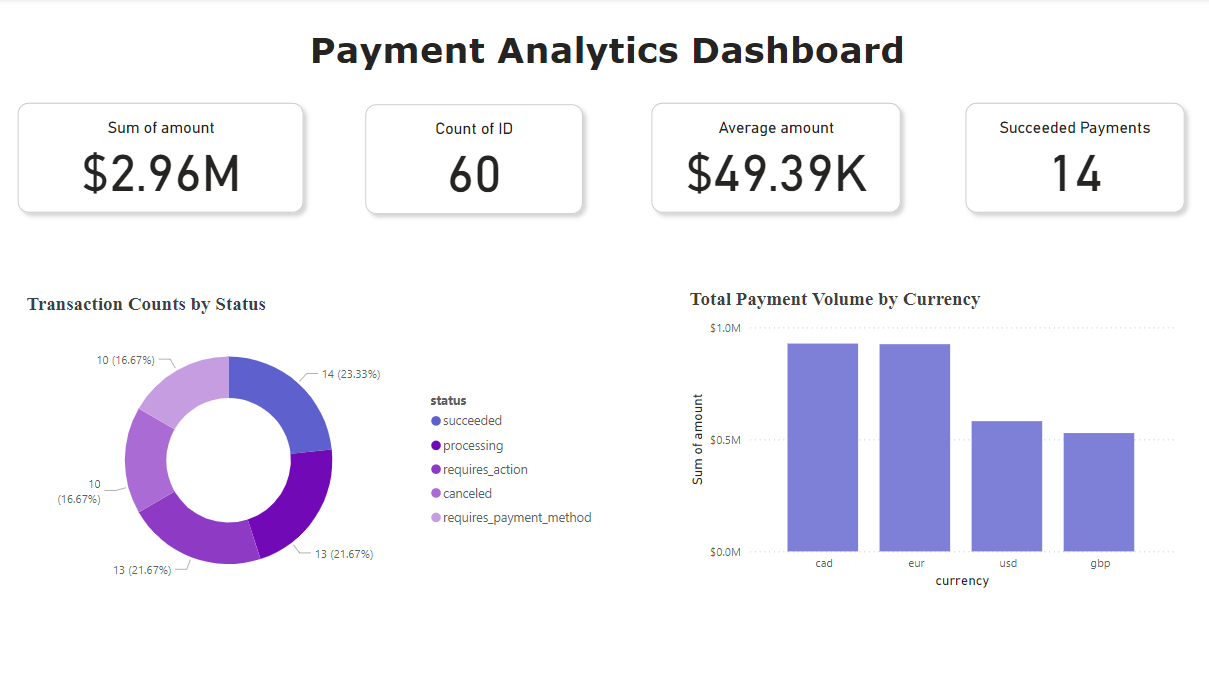

The dashboard page shown, as its layout file describes it:
{"tool":"powerbi","page":{"name":"Page 1","canvas":[1280,720],"ordinal":0},"visuals":[{"type":"shape","box":[1010.2,101.5,249,133.7],"z":0,"group":"g5"},{"type":"columnChart","title":"Total Payment Volume by Currency","fields":{"Category":["stripe_payments.currency"],"Y":["Sum(stripe_payments.amount)"]},"box":[723.7,306,520.7,320.7],"z":0},{"type":"shape","box":[680.3,101.6,280.8,133.7],"z":1000,"group":"g4"},{"type":"donutChart","title":"Transaction Counts by Status","fields":{"Category":["stripe_payments.status"],"Y":["CountNonNull(stripe_payments.id)"]},"box":[25,295.7,614.9,345.7],"z":1000},{"type":"textbox","box":[323.6,26.5,688.4,75],"z":2000},{"type":"shape","box":[377.8,103.1,247.3,133.7],"z":2000,"group":"g2"},{"type":"group","id":"g1","title":"Group 5","box":[11.8,101.5,1247.4,135.3],"z":3000},{"type":"shape","box":[11.8,101.6,319.2,133.7],"z":3000,"group":"g3"},{"type":"group","id":"g2","title":"Group 1","box":[377.8,103.1,247.3,133.7],"z":3000,"group":"g1"},{"type":"group","id":"g3","title":"Group 2","box":[11.8,101.6,319.2,133.7],"z":4000,"group":"g1"},{"type":"card","title":"Sum of amount","fields":{"Values":["Sum(stripe_payments.amount)"]},"box":[37.3,126.6,270.2,85.9],"z":4000,"group":"g3"},{"type":"group","id":"g4","title":"Group 3","box":[680.3,101.6,280.8,133.7],"z":5000,"group":"g1"},{"type":"card","title":"Count of ID","fields":{"Values":["CountNonNull(stripe_payments.id)"]},"box":[427.9,128.1,147.1,85.2],"z":5000,"group":"g2"},{"type":"group","id":"g5","title":"Group 4","box":[1010.2,101.5,249,133.7],"z":6000,"group":"g1"},{"type":"card","title":"Average amount","fields":{"Values":["Avg(stripe_payments.amount)"]},"box":[697,126.6,249,85.2],"z":6000,"group":"g4"},{"type":"card","title":"Succeeded Payments","fields":{"Values":["stripe_payments.Succeeded Payments"]},"box":[1036.9,126.5,195.5,85.2],"z":7000,"group":"g5"}]}

Visuals, with their boxes in screenshot pixels (x1, y1, x2, y2), scaled from the page's 1280x720 canvas onto the 1209x676 screenshot:
shape: [954, 95, 1189, 221]
"Total Payment Volume by Currency" columnChart: [684, 287, 1175, 588]
shape: [643, 95, 908, 221]
"Transaction Counts by Status" donutChart: [24, 278, 604, 602]
textbox: [306, 25, 956, 95]
shape: [357, 97, 590, 222]
"Group 5" group: [11, 95, 1189, 222]
shape: [11, 95, 313, 221]
"Group 1" group: [357, 97, 590, 222]
"Group 2" group: [11, 95, 313, 221]
"Sum of amount" card: [35, 119, 290, 200]
"Group 3" group: [643, 95, 908, 221]
"Count of ID" card: [404, 120, 543, 200]
"Group 4" group: [954, 95, 1189, 221]
"Average amount" card: [658, 119, 894, 199]
"Succeeded Payments" card: [979, 119, 1164, 199]
